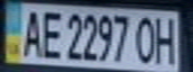2: (63, 9, 84, 61), (81, 10, 100, 62)
7: (112, 11, 133, 63)
9: (96, 10, 115, 62)
A: (18, 6, 45, 58)
E: (39, 7, 66, 58)
H: (151, 14, 181, 65)
O: (133, 12, 160, 65)
